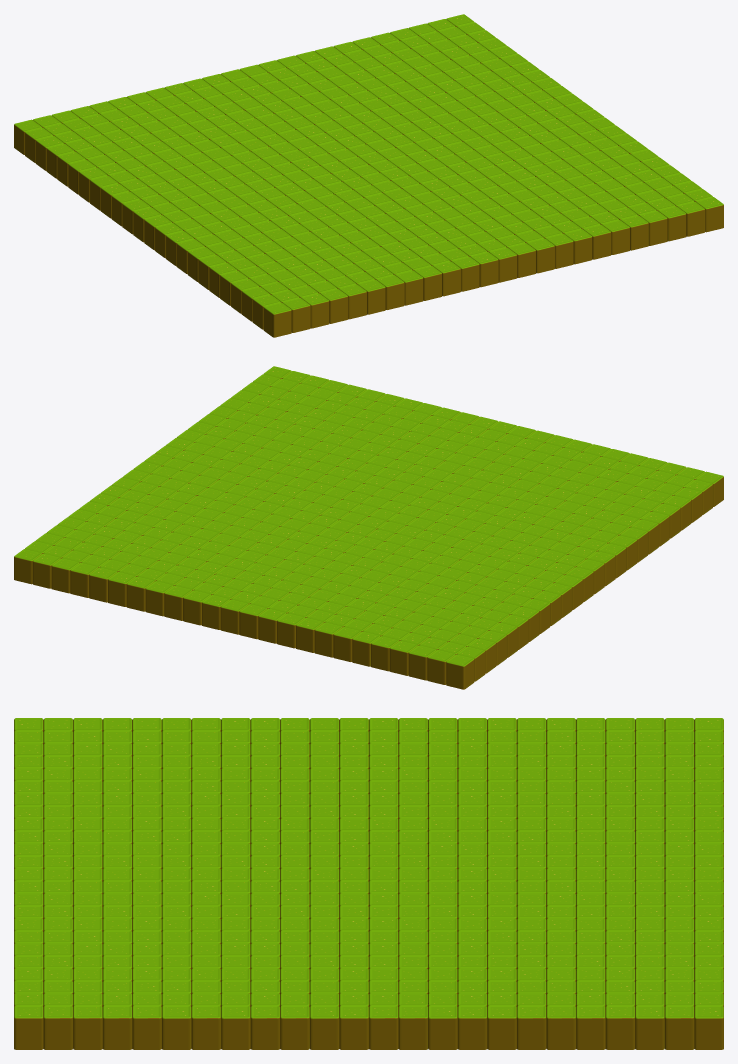
File: SM_LandBox_32.fbx
The picture shows the model from 3 angles, top to bottom: view 1: azimuth 30°, elevation 25°; view 2: azimuth 150°, elevation 25°; view 3: azimuth 270°, elevation 25°; orthographic projection. The views are drawn at different scales.
Parts seen in each view (by area): view 1: LandBox; view 2: LandBox; view 3: LandBox.
Boxes of the visible parts, bbox=[...] form: LandBox: bbox=[14, 14, 723, 337]; LandBox: bbox=[14, 366, 723, 689]; LandBox: bbox=[14, 718, 723, 1049].
Bounding box in the file's own units: 1200 × 59.91 × 1200.
1 material, 1 textured.
